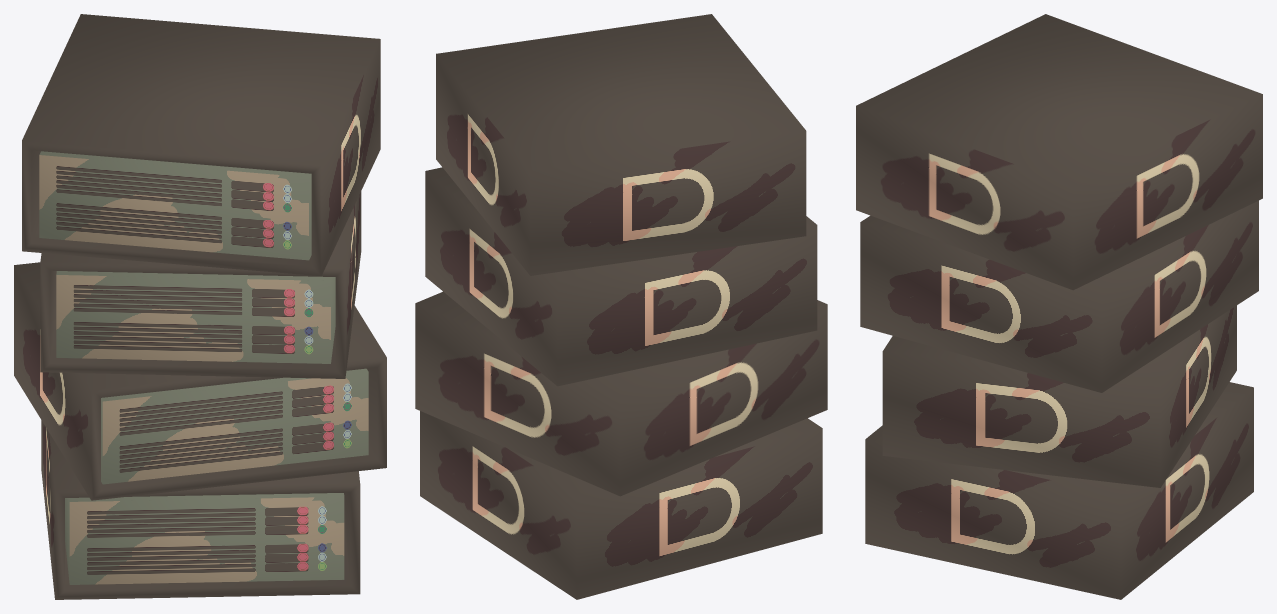
The model's file is and_gate.glb.
3 views of the same model, side by side, from view 1: azimuth 30°, elevation 25°; view 2: azimuth 150°, elevation 25°; view 3: azimuth 270°, elevation 25° (orthographic). The views are drawn at different scales.
Visible parts, largest first — view 1: logic_gate; view 2: logic_gate; view 3: logic_gate.
Part boxes in pixels (x1=…): logic_gate: x1=14, y1=14, x2=386, y2=599; logic_gate: x1=415, y1=14, x2=827, y2=599; logic_gate: x1=856, y1=14, x2=1262, y2=599.
Bounding box in the file's own units: 1.41 × 1.6 × 1.41.
Materials: 1 (1 with a texture image).
